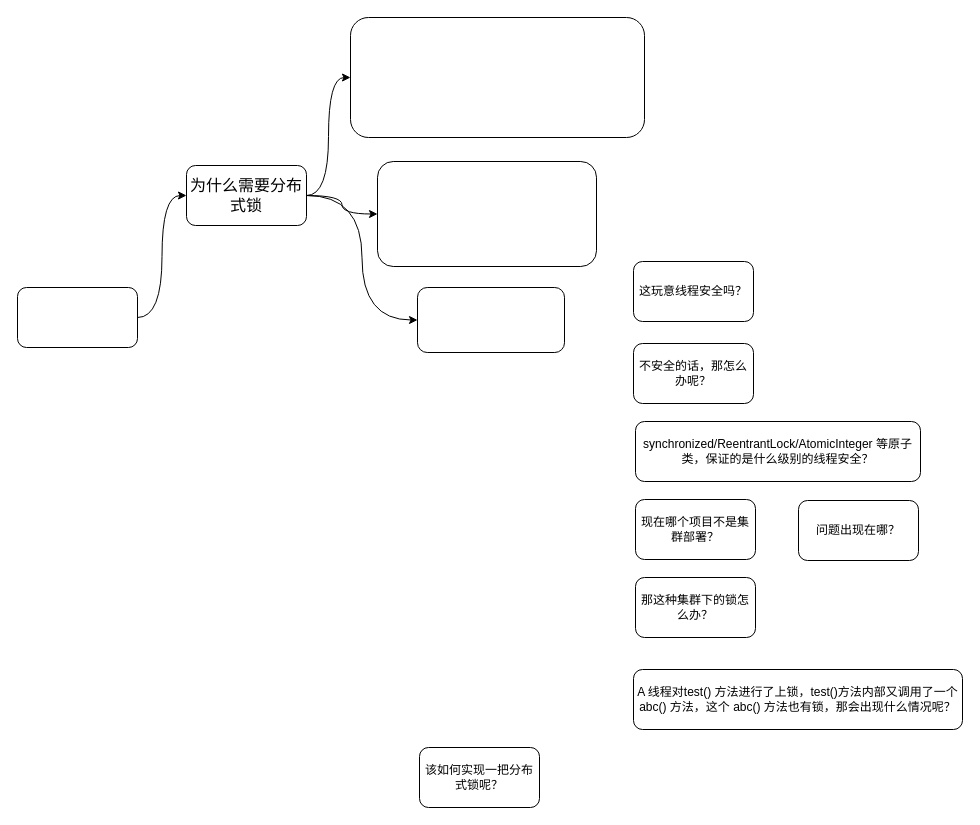
The diagram is 980 pixels wide and 825 high, and some of its shapes have lost their labels. Each missing label, with the centre of its shape:
假设现在就做个同时在线人数的功能，那我们怎么做？: the point at 490,319
写个定时任务，但是现在都是集群部署，结果你发现你的定时任务同时在无数台机器上执行了，造成了数据混乱。: the point at 486,213
分布式锁是什么？: the point at 77,317
要做跟库存相关的系统，比如医疗的进销存卖药、电商的库存等，结果并发量太大导致库存超卖了，库存剩余量出现了负数。: the point at 497,77
